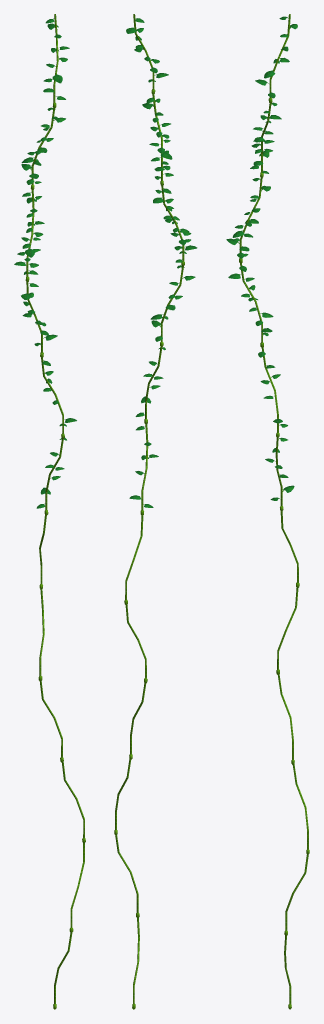
Rendered from Plant_NEW_2.fbx.
3 views of the same model, side by side, from view 1: azimuth 30°, elevation 25°; view 2: azimuth 150°, elevation 25°; view 3: azimuth 330°, elevation 25° (orthographic).
Parts seen in each view (by area): view 1: Icosphere.015; view 2: Icosphere.015; view 3: Icosphere.015.
Boxes of the visible parts, x1,y1,x2,y2 form: Icosphere.015: (14, 14, 85, 1009); Icosphere.015: (114, 14, 197, 1009); Icosphere.015: (226, 14, 309, 1009).
Bounding box in the file's own units: 1172 × 14477 × 752.
2 materials, 2 textured.
